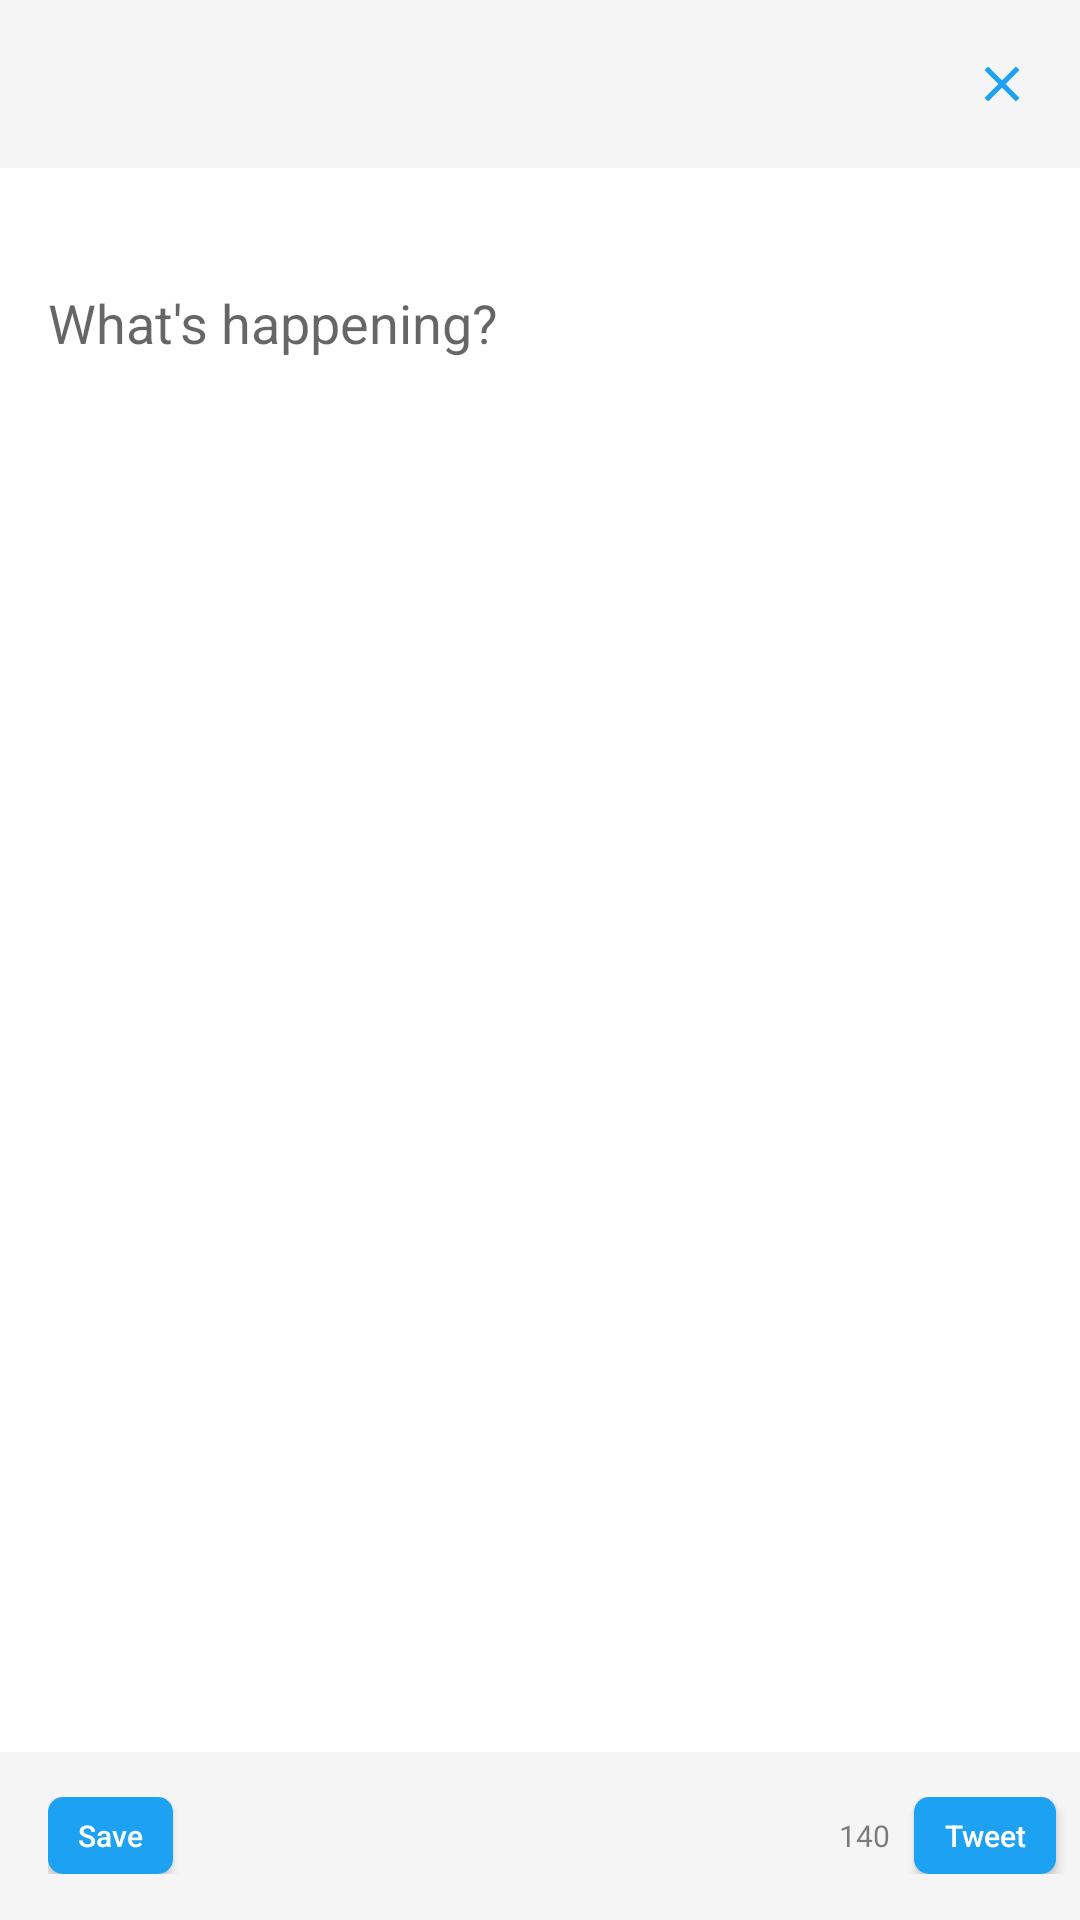

Screen size 1080 x 1920. Icon name, then its center in pixels as point (x, y):
close dialog: point (1002, 84)
